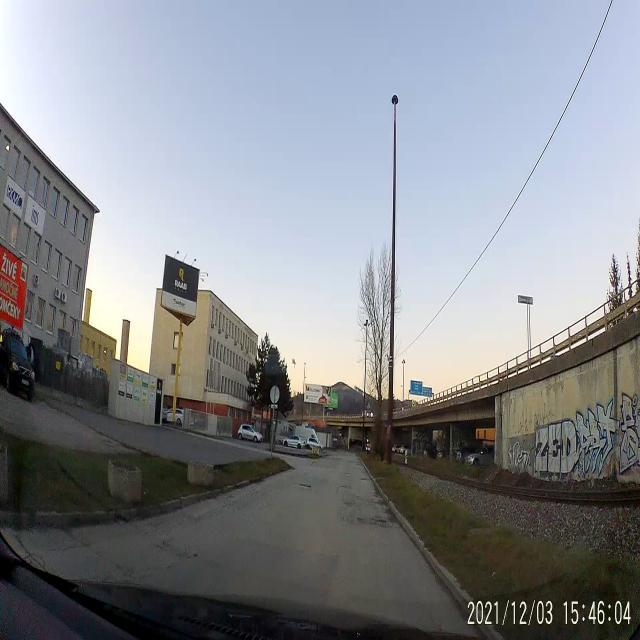Pothole: (358, 513, 396, 531), (298, 479, 310, 492)
